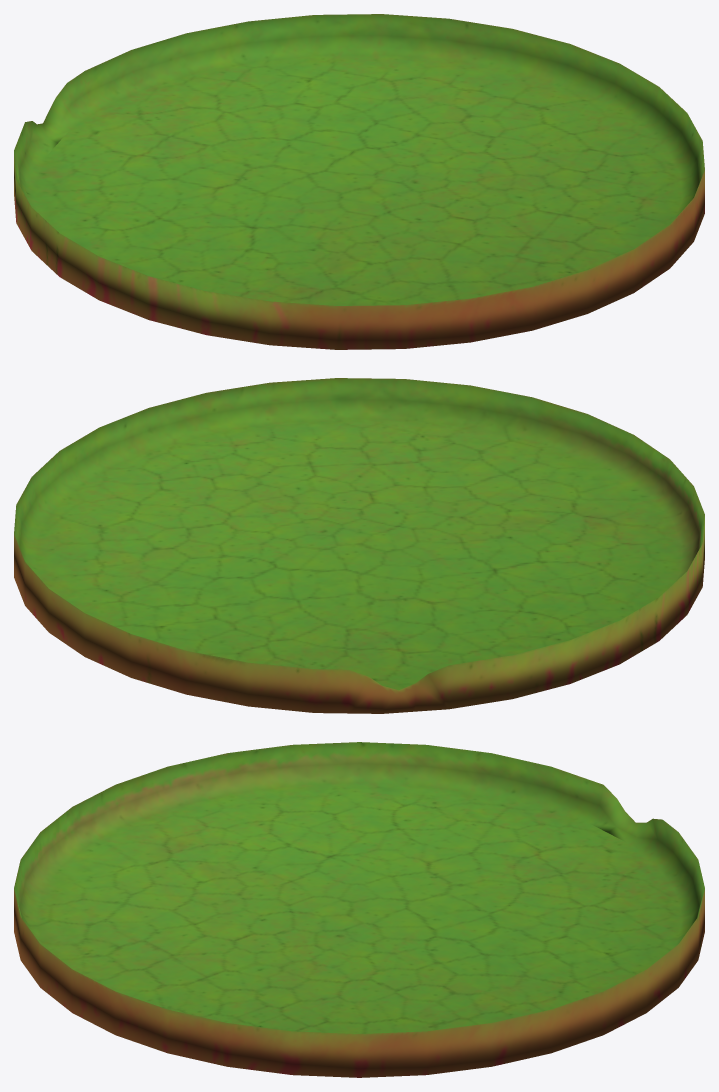
File: sb_obj_nature009_Aqplant01a.fbx
3 views of the same model, one above another, from view 1: azimuth 30°, elevation 25°; view 2: azimuth 150°, elevation 25°; view 3: azimuth 270°, elevation 25° (orthographic).
Visible parts, largest first — view 1: sb_obj_nature009_Aqplant01a; view 2: sb_obj_nature009_Aqplant01a; view 3: sb_obj_nature009_Aqplant01a.
Part boxes in pixels (x1=…): sb_obj_nature009_Aqplant01a: x1=14, y1=14, x2=704, y2=349; sb_obj_nature009_Aqplant01a: x1=14, y1=378, x2=704, y2=713; sb_obj_nature009_Aqplant01a: x1=14, y1=742, x2=704, y2=1077.
Size of the model in its own units: 2 by 0.14 by 2.
Materials: 1 (1 with a texture image).
